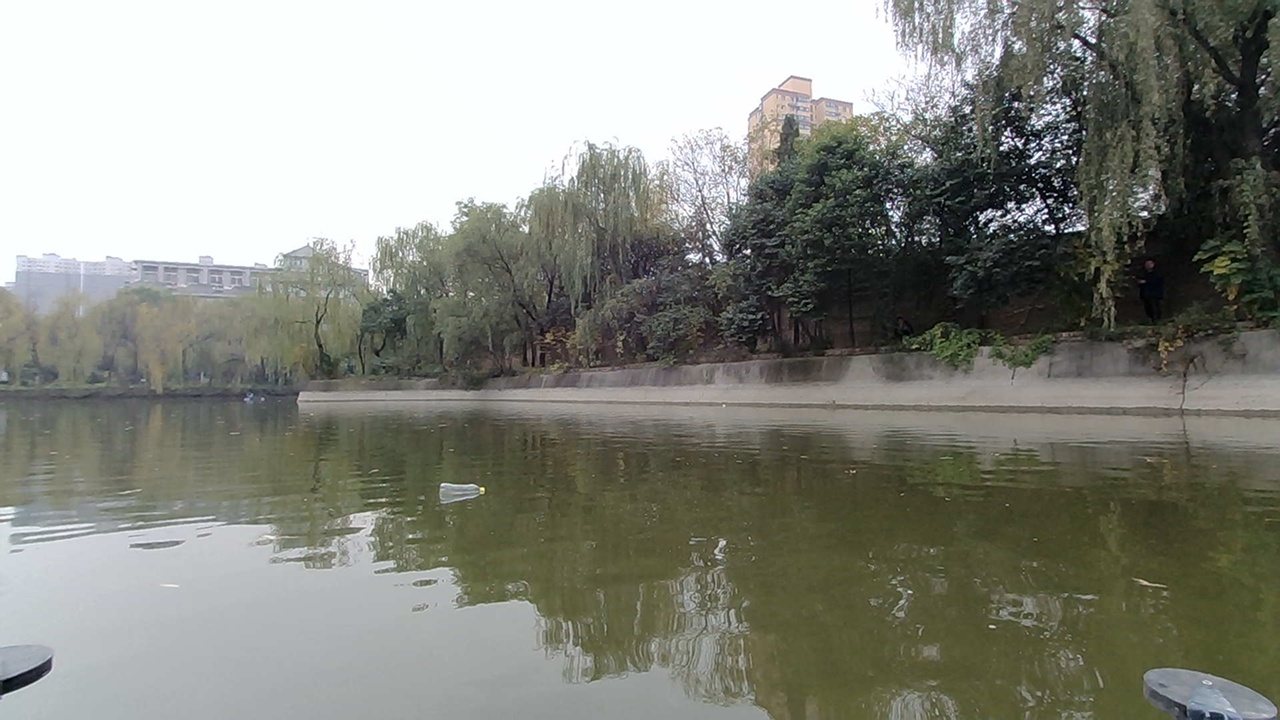bottle: (428, 467, 492, 512)
